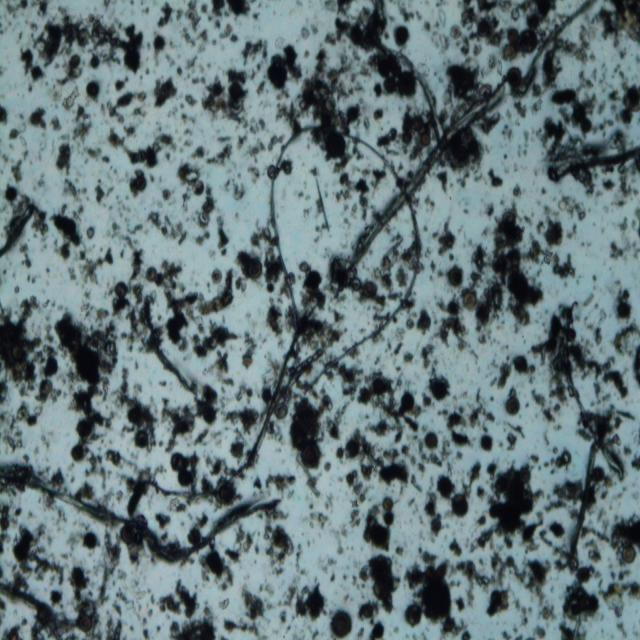Background material: (56, 307, 120, 427), (472, 459, 550, 548), (0, 572, 75, 638), (333, 434, 411, 491), (0, 290, 38, 392), (77, 449, 134, 514), (0, 198, 48, 264), (452, 552, 526, 594), (360, 371, 406, 435), (92, 18, 144, 73), (120, 572, 162, 638), (333, 0, 385, 52), (358, 555, 402, 614), (28, 522, 66, 586), (573, 266, 610, 331), (498, 593, 547, 637), (198, 265, 238, 318), (160, 398, 196, 451), (290, 393, 324, 448), (117, 390, 159, 434), (598, 574, 640, 618), (601, 0, 640, 47), (448, 136, 490, 179), (302, 173, 330, 236), (302, 289, 338, 338), (75, 245, 116, 286), (259, 231, 287, 291), (186, 323, 240, 353), (200, 545, 236, 590), (476, 281, 504, 338), (302, 46, 330, 101), (563, 586, 603, 624), (69, 570, 111, 606), (529, 110, 571, 146), (176, 28, 238, 52), (464, 238, 491, 293), (602, 512, 640, 551), (470, 379, 496, 436), (319, 534, 350, 581), (441, 59, 477, 98), (0, 406, 28, 456), (286, 542, 308, 605), (147, 212, 189, 245), (48, 212, 84, 250), (40, 307, 58, 380), (168, 612, 215, 639), (597, 360, 630, 398), (62, 13, 93, 53), (193, 197, 216, 250), (121, 143, 163, 172), (366, 506, 394, 549), (34, 21, 61, 65), (294, 583, 326, 620), (205, 348, 235, 387), (558, 37, 598, 66), (104, 90, 137, 125), (324, 400, 348, 448), (352, 276, 390, 306), (266, 295, 290, 342), (202, 77, 227, 121), (176, 111, 200, 156), (237, 326, 261, 371), (437, 316, 467, 352), (414, 545, 446, 578), (123, 474, 150, 513), (268, 523, 298, 558), (333, 366, 365, 398), (557, 193, 590, 224), (552, 87, 586, 117), (548, 252, 583, 281), (121, 231, 144, 275), (225, 526, 253, 562), (475, 14, 505, 47), (434, 217, 457, 260), (176, 574, 198, 618), (176, 166, 206, 198), (544, 441, 572, 475), (18, 49, 45, 84), (348, 479, 366, 531), (157, 261, 183, 297), (276, 103, 302, 139), (238, 584, 264, 620), (525, 556, 551, 592), (302, 503, 331, 535), (222, 616, 264, 637), (264, 471, 299, 496), (152, 74, 176, 110), (0, 496, 20, 538), (122, 310, 142, 351), (240, 38, 274, 62), (512, 94, 536, 127), (542, 219, 566, 252), (537, 389, 559, 424), (354, 178, 373, 218), (225, 408, 263, 428), (600, 88, 618, 130), (232, 381, 261, 407), (441, 406, 470, 432), (433, 440, 458, 470), (542, 49, 559, 92), (28, 104, 52, 134), (240, 114, 271, 137), (54, 142, 76, 174), (75, 106, 93, 145), (284, 46, 304, 81), (416, 300, 436, 335), (206, 146, 235, 170), (8, 1, 30, 32), (57, 176, 83, 202), (17, 399, 41, 427), (488, 589, 512, 617), (439, 619, 474, 638), (157, 592, 184, 616), (629, 338, 640, 396), (82, 145, 112, 166), (154, 1, 174, 32), (335, 173, 355, 204), (620, 226, 640, 256), (227, 0, 253, 23), (624, 441, 640, 478), (61, 84, 82, 112), (302, 471, 322, 500), (557, 620, 591, 637), (544, 516, 568, 540), (502, 424, 524, 450), (8, 158, 28, 186), (158, 51, 185, 71), (418, 344, 438, 371), (458, 3, 478, 30), (433, 166, 451, 195), (76, 291, 96, 317), (217, 217, 230, 257), (477, 197, 499, 220), (103, 618, 127, 638), (154, 510, 174, 534), (188, 507, 212, 527), (204, 2, 228, 22), (449, 429, 473, 448), (496, 364, 514, 389), (90, 176, 106, 204), (104, 129, 126, 149), (534, 337, 550, 364), (410, 563, 426, 590), (606, 242, 624, 266), (537, 601, 557, 622), (157, 133, 179, 152), (5, 125, 28, 142), (224, 183, 247, 200), (49, 587, 66, 610), (488, 170, 506, 191), (618, 108, 638, 126), (367, 620, 387, 638), (183, 92, 201, 112), (280, 156, 298, 176), (183, 54, 200, 74), (426, 192, 442, 212), (216, 592, 232, 612), (111, 600, 127, 620), (201, 476, 215, 498), (452, 593, 470, 610), (248, 138, 266, 155), (193, 428, 210, 445), (448, 538, 464, 556), (260, 384, 274, 404), (46, 116, 62, 133), (34, 1, 54, 14), (374, 104, 389, 121), (393, 324, 407, 342), (0, 101, 9, 127), (603, 178, 617, 193), (300, 27, 314, 42), (123, 125, 139, 138), (446, 302, 459, 318), (85, 225, 97, 242), (379, 255, 391, 272), (514, 185, 526, 202), (161, 186, 172, 204), (279, 608, 289, 627), (194, 147, 206, 162), (115, 79, 126, 94), (408, 356, 417, 366)
Cellulose filter fibre: (332, 74, 510, 300), (0, 473, 284, 568), (374, 8, 456, 166), (552, 307, 626, 482), (512, 1, 601, 97), (566, 409, 616, 571), (141, 297, 204, 398), (536, 143, 640, 181)
Diatom: (490, 228, 548, 326), (421, 576, 453, 620), (289, 346, 326, 379), (325, 135, 351, 165), (298, 441, 324, 471), (330, 610, 354, 636), (267, 61, 289, 89), (124, 520, 146, 546), (243, 254, 264, 280), (216, 479, 236, 505), (429, 378, 449, 402), (518, 31, 538, 55), (451, 492, 469, 518), (624, 83, 640, 112), (398, 391, 416, 415), (462, 287, 480, 311), (36, 380, 57, 400), (501, 209, 521, 230), (614, 300, 633, 321), (448, 262, 464, 286), (170, 450, 186, 474), (392, 25, 410, 46), (506, 66, 521, 91), (506, 394, 522, 417), (227, 96, 245, 116), (76, 612, 94, 632), (424, 431, 441, 452), (405, 606, 422, 627), (230, 440, 245, 463), (75, 420, 94, 438), (437, 476, 454, 496), (82, 532, 99, 552), (3, 183, 19, 204), (578, 114, 594, 135), (480, 432, 496, 453), (70, 444, 88, 462), (576, 568, 594, 586), (113, 279, 129, 299), (178, 470, 194, 490), (14, 541, 30, 561), (85, 80, 103, 97), (186, 527, 202, 546), (503, 42, 519, 61), (428, 516, 443, 536), (209, 269, 225, 287), (622, 546, 638, 564), (306, 270, 322, 288), (514, 355, 529, 374), (362, 602, 376, 622), (324, 95, 338, 115), (384, 76, 398, 96), (203, 407, 217, 426), (184, 9, 200, 24), (276, 400, 288, 420), (68, 51, 82, 68), (135, 431, 149, 448), (134, 175, 149, 190), (152, 35, 166, 51), (381, 496, 395, 511), (420, 131, 432, 147), (90, 51, 100, 70), (144, 267, 156, 282), (384, 512, 396, 527), (450, 24, 462, 38)
Microfibre: (148, 123, 424, 498)
